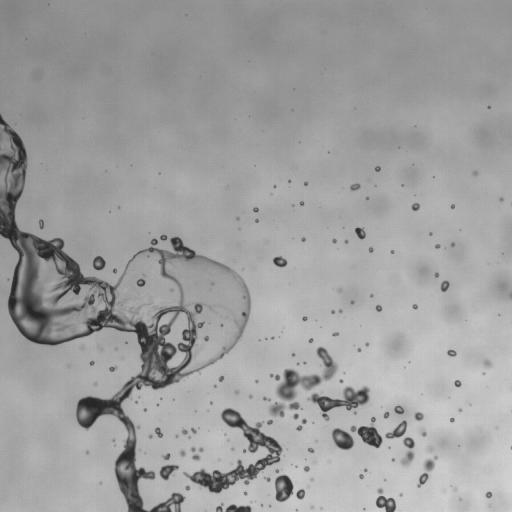droplet: (183, 408, 282, 493), (331, 417, 382, 450), (275, 474, 293, 502), (375, 488, 396, 511), (159, 464, 178, 480), (93, 256, 105, 270), (273, 256, 287, 267), (355, 227, 365, 239), (440, 280, 449, 291), (296, 489, 305, 499), (483, 359, 492, 368), (136, 278, 145, 286), (394, 406, 403, 414), (414, 412, 423, 420), (350, 183, 360, 190), (155, 427, 162, 437), (411, 203, 419, 211), (419, 427, 426, 436), (203, 335, 209, 344), (447, 350, 456, 356), (454, 380, 461, 387), (163, 453, 170, 460), (485, 491, 492, 498), (109, 366, 117, 371), (209, 280, 216, 285), (160, 235, 166, 240), (376, 305, 381, 311), (263, 396, 269, 401), (293, 413, 298, 419), (384, 412, 389, 418), (181, 429, 187, 434), (426, 447, 432, 452), (180, 450, 185, 456), (303, 466, 309, 471), (375, 166, 380, 171), (253, 207, 258, 212), (412, 304, 417, 309), (302, 316, 307, 321), (218, 376, 223, 381), (191, 428, 196, 433), (185, 485, 190, 490), (472, 171, 477, 175), (435, 244, 440, 248), (369, 247, 373, 252), (333, 332, 338, 336), (267, 420, 272, 424), (199, 447, 203, 452), (308, 448, 313, 452), (265, 477, 270, 481), (304, 181, 308, 185), (499, 197, 503, 201), (299, 201, 303, 205), (301, 237, 305, 241), (332, 239, 336, 243), (208, 288, 212, 292), (309, 338, 313, 342), (339, 379, 343, 383), (359, 474, 363, 478), (453, 487, 457, 491), (243, 491, 247, 495), (451, 204, 454, 208), (113, 269, 116, 273), (435, 273, 438, 277), (169, 288, 173, 291), (338, 288, 341, 292), (365, 342, 368, 346), (357, 348, 361, 351), (90, 361, 93, 365), (94, 382, 97, 386), (450, 418, 454, 421), (255, 219, 258, 222), (451, 243, 454, 246), (339, 310, 342, 313), (249, 395, 252, 398), (149, 435, 152, 438), (275, 469, 278, 472), (351, 300, 353, 304), (273, 185, 276, 187), (345, 240, 347, 243), (391, 250, 393, 253), (220, 324, 223, 326), (271, 336, 273, 339), (292, 353, 294, 356), (303, 361, 305, 364), (255, 380, 258, 382), (235, 391, 238, 393), (459, 408, 461, 411), (231, 447, 233, 450), (86, 451, 89, 453), (195, 282, 197, 284), (370, 294, 372, 296), (149, 303, 151, 305), (332, 311, 334, 313), (214, 385, 216, 387), (144, 409, 146, 411), (175, 435, 177, 437), (364, 469, 366, 471)
ligament: (0, 114, 249, 511), (268, 346, 337, 417), (307, 386, 369, 420), (417, 456, 437, 487), (400, 437, 414, 466), (385, 420, 407, 438), (216, 503, 251, 511), (190, 447, 200, 460), (296, 418, 306, 430), (39, 219, 43, 228), (230, 301, 234, 305), (0, 134, 2, 140), (510, 292, 511, 298)
